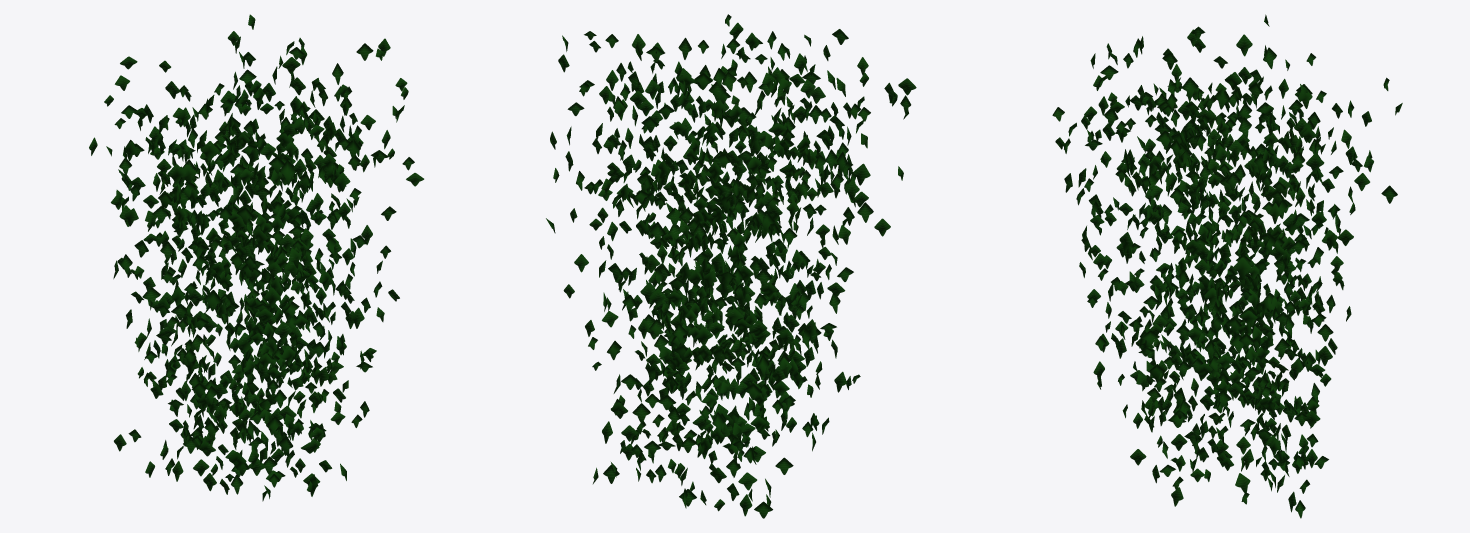
Rendered from Shrub_WitchHazel.glb.
The picture shows the model from 3 angles, left to right: view 1: azimuth 30°, elevation 25°; view 2: azimuth 150°, elevation 25°; view 3: azimuth 270°, elevation 25°; orthographic projection. The views are drawn at different scales.
Visible parts, largest first — view 1: Shrub_WitchHazel; view 2: Shrub_WitchHazel; view 3: Shrub_WitchHazel.
Boxes of the visible parts, x1,y1,x2,y2 form: Shrub_WitchHazel: [89, 14, 423, 501]; Shrub_WitchHazel: [546, 14, 916, 518]; Shrub_WitchHazel: [1052, 14, 1402, 518].
Bounding box in the file's own units: 3.66 × 3.7 × 3.75.
Materials: 1 (1 with a texture image).
